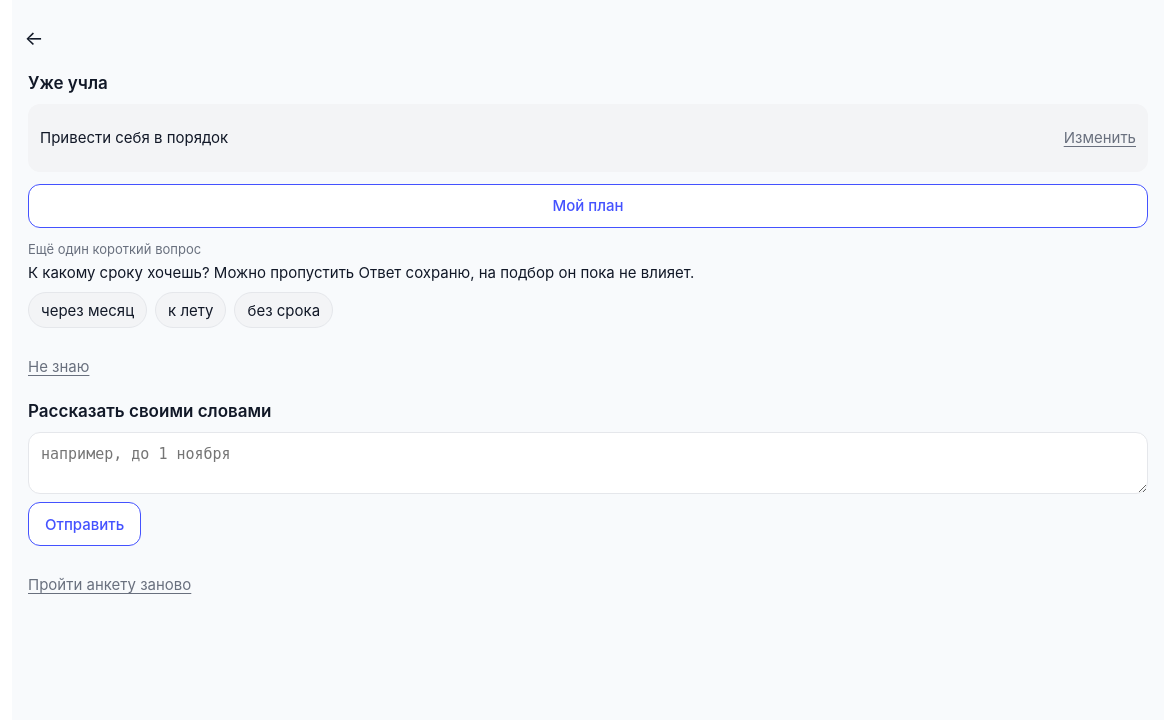
шаг «К какому сроку хочешь?» › отказ каталога 400 — словами человека, а не «Не получилось отправить»
The width and height of the screenshot is (1164, 720).
Type "вчера" into the text box with placeholder "например, до 1 ноября" at (588, 463), box [28, 432, 1148, 494]
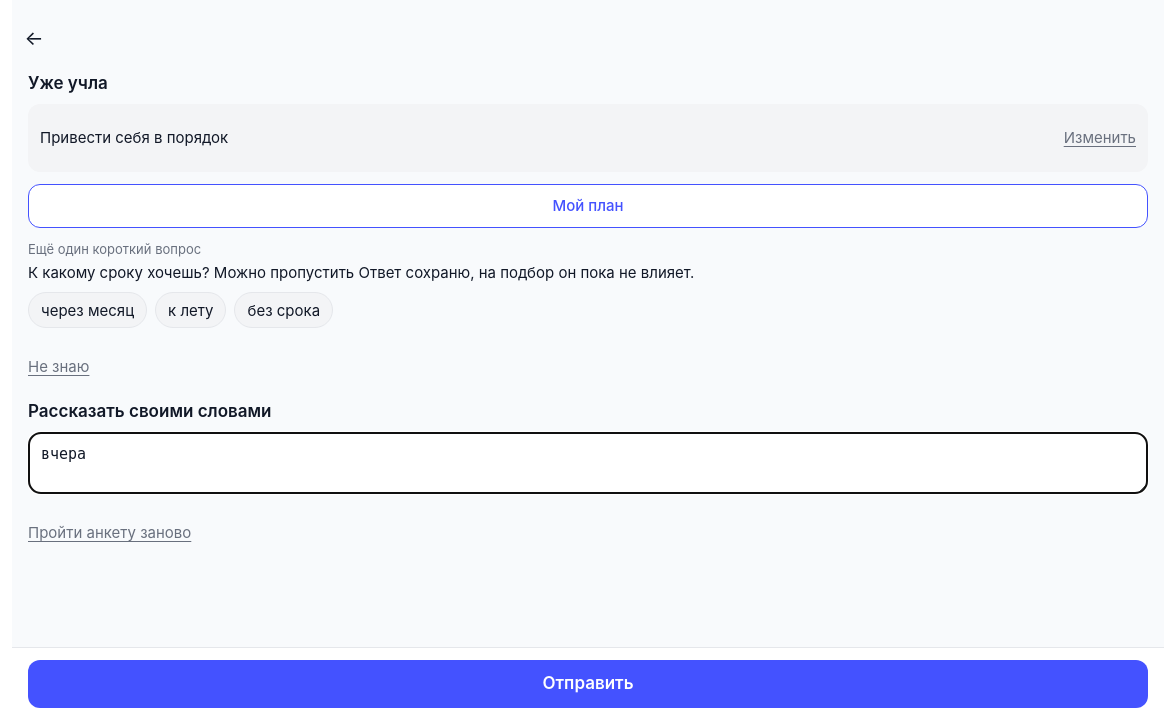
Click the button "Отправить" at (588, 684), box [28, 660, 1148, 708]
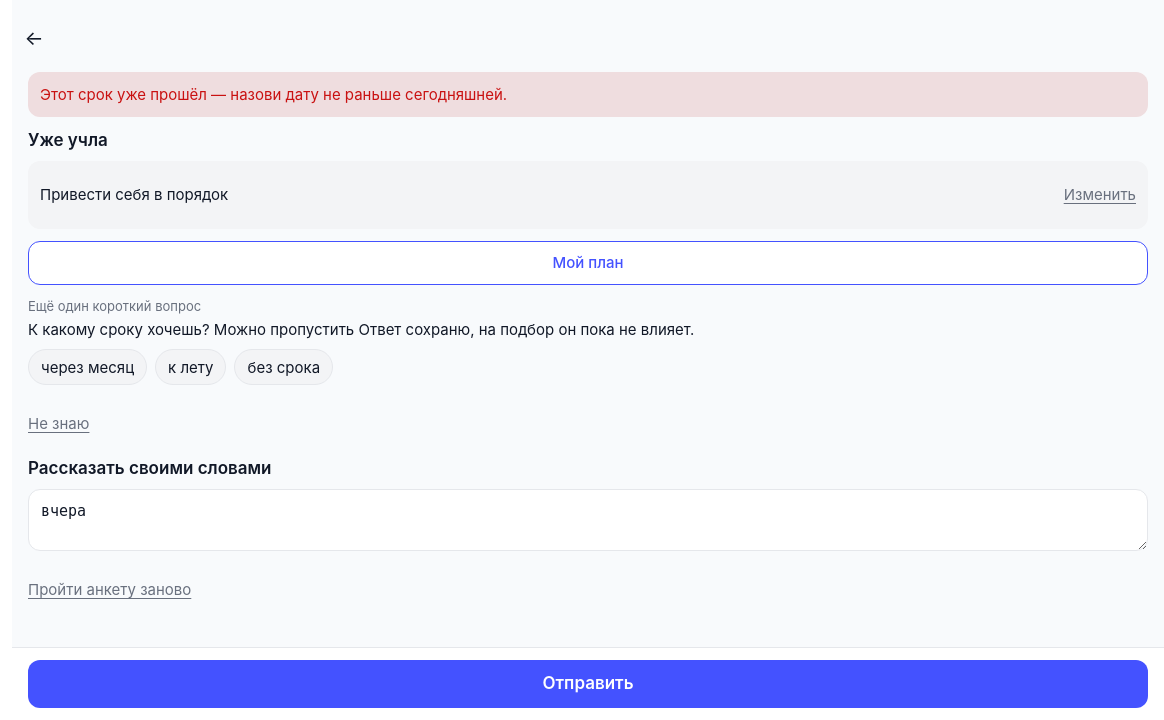
Now the text "Этот срок уже прошёл — назови дату не раньше сегодняшней." is shown, box [40, 85, 507, 104]
